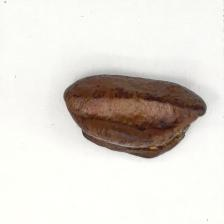NG: (62, 90, 208, 160)
